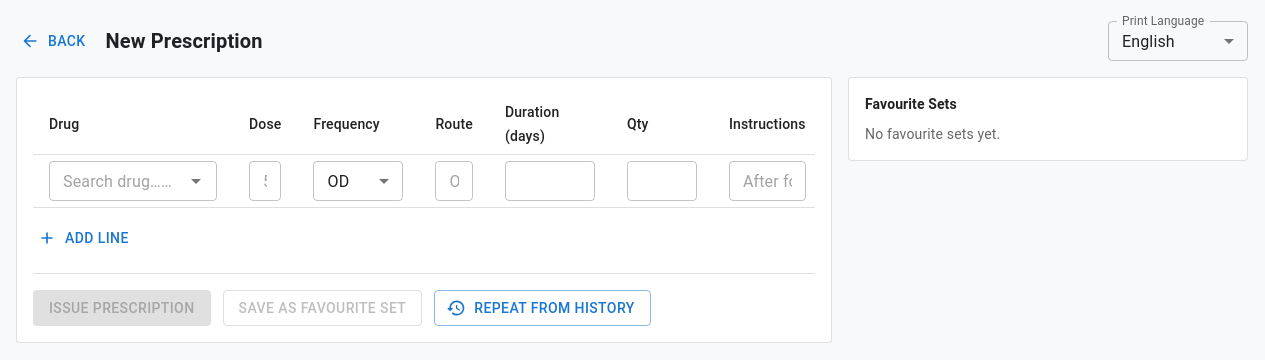
Scenario: PrescriptionBuilder — drug self-add + favourites (REQ173) › shows the clinician's own favourite drugs before any search is typed
Expected: the heading "New Prescription" is shown, [106,29,263,53]
Click the button named "Open" at (196, 181), box [182,167,210,195]
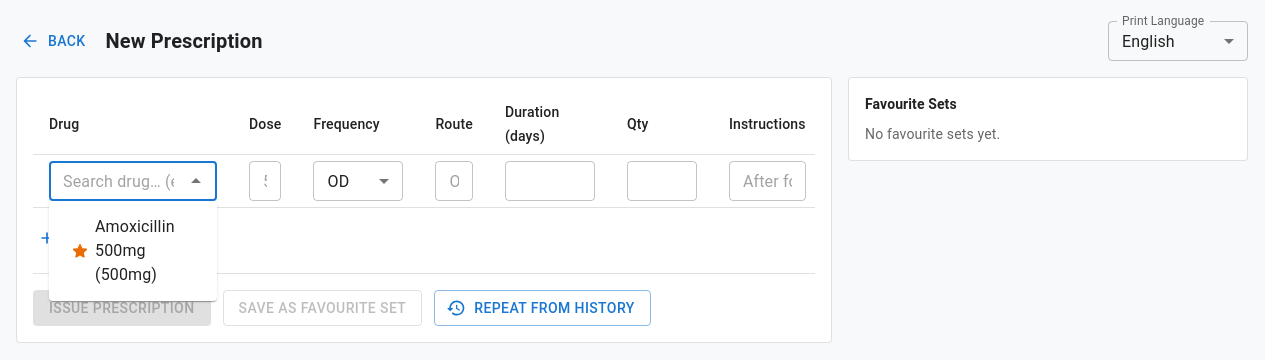
Now the option "Amoxicillin 500mg (500mg)" is shown, box [65,217,175,284]
